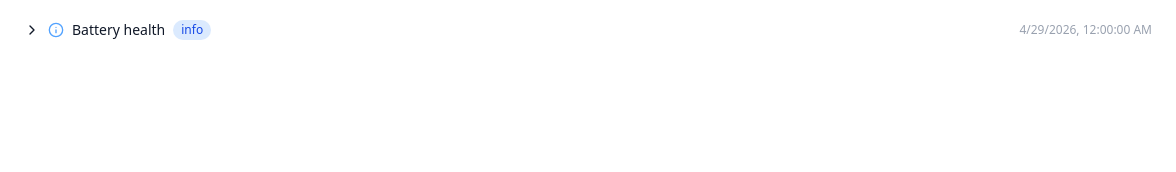
Scenario: HealthChecksTab › renders battery_health stats when applicable
Expected: the text "Battery health" is shown, [72, 20, 165, 40]
Step 1. Click the button "Battery health info 4/29/2026, 12:00:00 AM" → coordinates (119, 30), box [12, 12, 1164, 48]
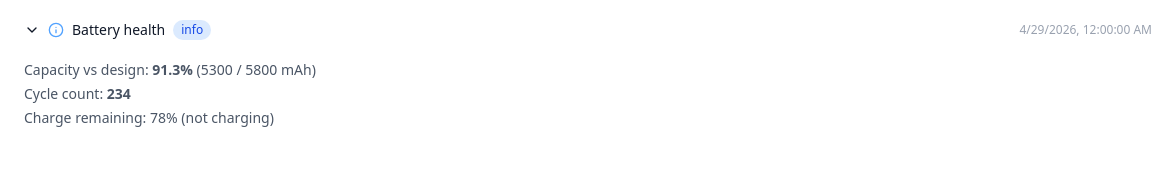
Now the text "91.3%" is shown, box [152, 60, 193, 79]
Now the text "234" is shown, box [107, 84, 131, 103]
